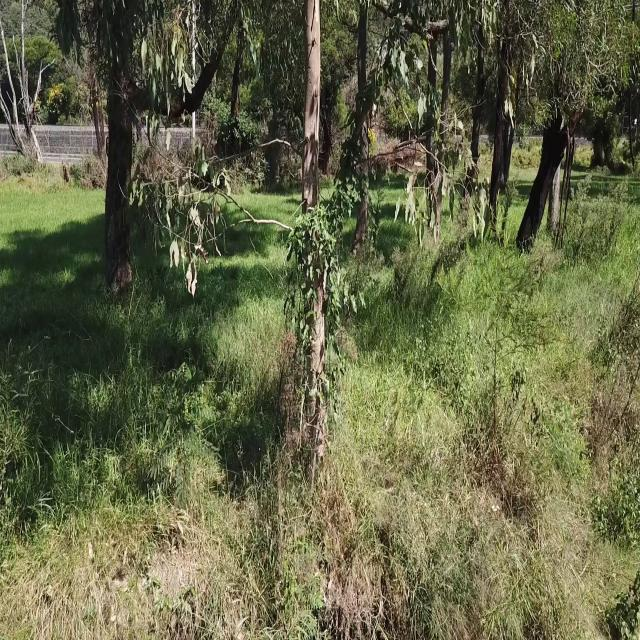Mysore-Thorn-Weed: (150, 360, 225, 510)
